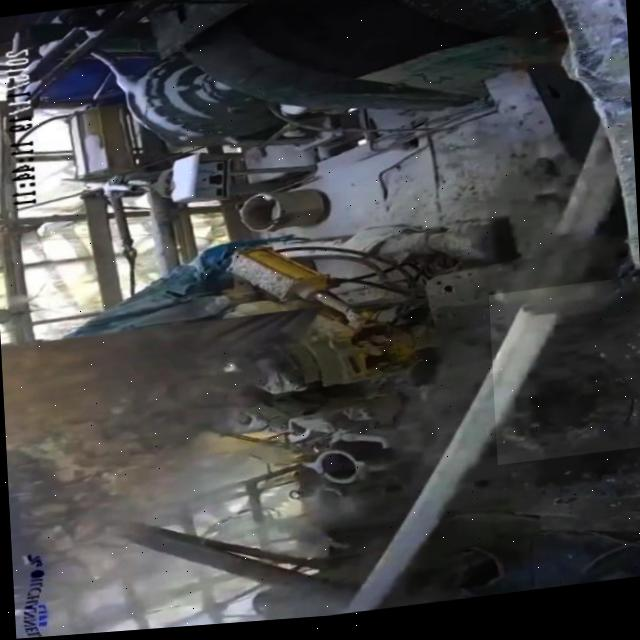spillage: (489, 286, 640, 471)
